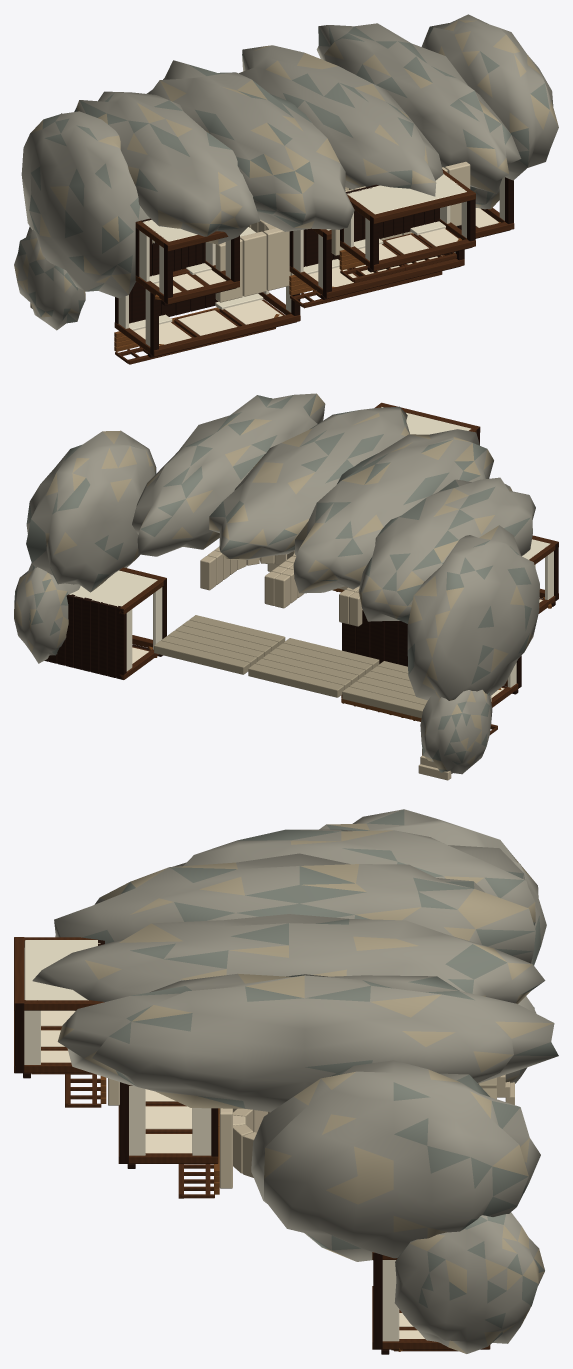
3 renders of one model, top to bottom at view 1: azimuth 30°, elevation 25°; view 2: azimuth 150°, elevation 25°; view 3: azimuth 270°, elevation 25°, orthographic. The views are drawn at different scales.
Visible parts, largest first — view 1: 山体主岩 01, 山体主岩 03, 山体主岩 02, 山体主岩 04, 山体主岩 05, 山体主岩 06, 山体主岩 08, 中层叠石露台 1, 山顶书亭 · 后墙, 临水町屋 · 地板, 临水町屋 · -1横梁, 山顶书亭 · 地板 (+25 smaller); view 2: 山体主岩 01, 山体主岩 03, 山体主岩 06, 山体主岩 04, 山体主岩 05, 山体主岩 02, 山体主岩 08, 下层背墙 2, 下层背墙 3, 右侧水磨坊 · 地板, 山体主岩 07, 下层背墙 1 (+7 smaller); view 3: 山体主岩 05, 山体主岩 06, 山体主岩 04, 山体主岩 03, 山体主岩 07, 山体主岩 02, 山体主岩 01, 山顶书亭 · 后墙, 中庭茶屋 · +1侧墙, 右侧水磨坊 · +1侧墙, 中庭茶屋 · 格扇 2 · 和纸, 中层叠石露台 3 (+11 smaller).
Boxes of the visible parts, x1,y1,x2,y2 form: 山体主岩 01: [21, 111, 154, 298]; 山体主岩 03: [146, 60, 354, 231]; 山体主岩 02: [74, 91, 259, 244]; 山体主岩 04: [239, 45, 443, 196]; 山体主岩 05: [316, 23, 521, 193]; 山体主岩 06: [421, 14, 558, 180]; 山体主岩 08: [14, 226, 85, 330]; 中层叠石露台 1: [215, 228, 290, 302]; 山顶书亭 · 后墙: [347, 174, 466, 214]; 临水町屋 · 地板: [115, 281, 218, 323]; 临水町屋 · -1横梁: [153, 314, 300, 356]; 山顶书亭 · 地板: [340, 170, 443, 242]; 山体主岩 01: [407, 525, 539, 700]; 山体主岩 03: [293, 429, 493, 593]; 山体主岩 06: [26, 430, 156, 592]; 山体主岩 04: [209, 406, 409, 560]; 山体主岩 05: [132, 393, 325, 556]; 山体主岩 02: [358, 477, 535, 623]; 山体主岩 08: [420, 689, 492, 774]; 下层背墙 2: [248, 638, 379, 697]; 下层背墙 3: [154, 615, 285, 674]; 右侧水磨坊 · 地板: [44, 594, 126, 679]; 山体主岩 07: [14, 563, 80, 663]; 下层背墙 1: [342, 661, 427, 718]; 山体主岩 05: [57, 973, 558, 1111]; 山体主岩 06: [251, 1060, 540, 1261]; 山体主岩 04: [32, 914, 545, 1010]; 山体主岩 03: [54, 853, 535, 963]; 山体主岩 07: [394, 1212, 544, 1353]; 山体主岩 02: [172, 829, 535, 925]; 山体主岩 01: [319, 809, 546, 965]; 山顶书亭 · 后墙: [24, 940, 100, 1000]; 中庭茶屋 · +1侧墙: [129, 1086, 211, 1155]; 右侧水磨坊 · +1侧墙: [382, 1260, 399, 1341]; 中庭茶屋 · 格扇 2 · 和纸: [145, 1106, 192, 1129]; 中层叠石露台 3: [219, 1108, 232, 1188].
Bounding box in the file's own units: 14.04 × 6.81 × 10.42.
Materials: 10 (3 with a texture image).
